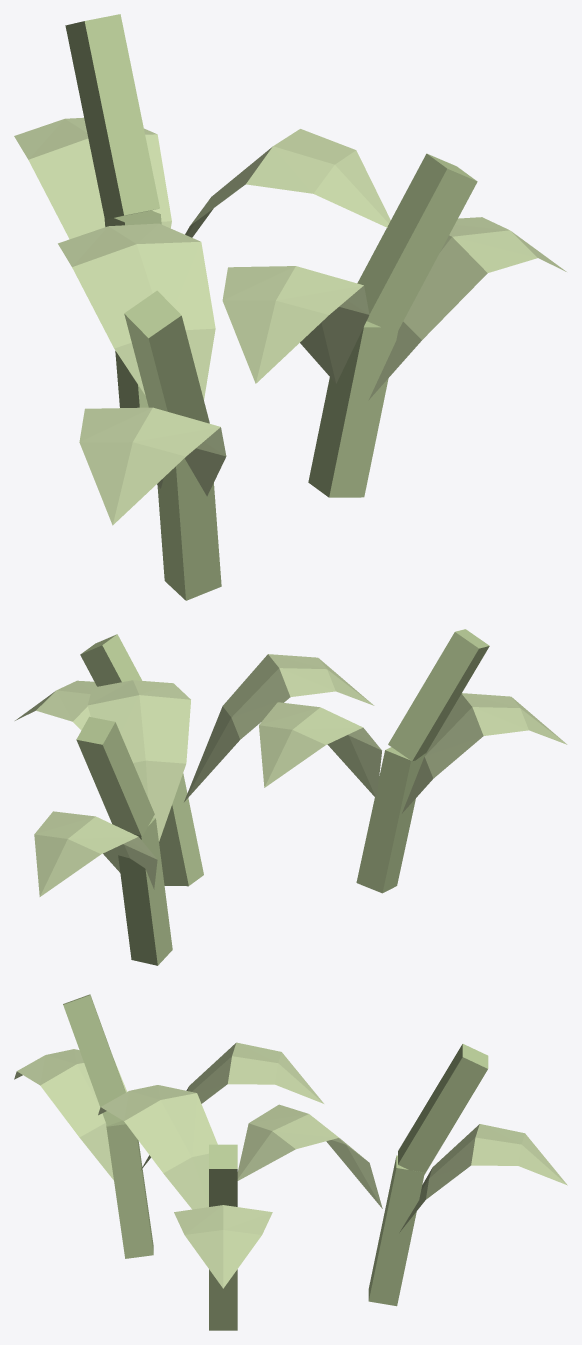
Rendered from crafted-crop-wheat-0.glb.
3 views of the same model, one above another, from view 1: azimuth 30°, elevation 25°; view 2: azimuth 150°, elevation 25°; view 3: azimuth 270°, elevation 25° (orthographic). The views are drawn at different scales.
Visible parts, largest first — view 1: blade-3, blade-1, stalk-2-1, blade-2, stalk-0-1, stalk-0-0, blade, blade-5, blade-4, stalk-1-0, stalk-1-1, stalk-2-0; view 2: blade-5, blade-1, blade-3, blade-4, stalk-1-0, blade-2, stalk-1-1, stalk-2-1, stalk-2-0, stalk-0-0, stalk-0-1, blade; view 3: blade-1, blade-5, blade-2, stalk-2-1, blade, blade-4, stalk-2-0, stalk-1-0, blade-3, stalk-1-1, stalk-0-1, stalk-0-0.
Boxes of the visible parts, <box> form: blade-3: <box>58,223,215,399</box>; blade-1: <box>222,266,369,383</box>; stalk-2-1: <box>65,14,159,219</box>; blade-2: <box>79,407,226,525</box>; stalk-0-1: <box>357,153,477,333</box>; stalk-0-0: <box>308,321,397,497</box>; blade: <box>368,217,566,400</box>; blade-5: <box>185,129,390,237</box>; blade-4: <box>14,117,171,239</box>; stalk-1-0: <box>157,458,221,600</box>; stalk-1-1: <box>124,290,209,423</box>; stalk-2-0: <box>104,210,161,407</box>; blade-5: <box>87,680,190,841</box>; blade-1: <box>184,654,374,801</box>; blade-3: <box>259,702,381,796</box>; blade-4: <box>34,811,157,896</box>; stalk-1-0: <box>356,747,425,893</box>; blade-2: <box>402,693,567,813</box>; stalk-1-1: <box>388,629,489,761</box>; stalk-2-1: <box>76,716,154,836</box>; stalk-2-0: <box>118,817,172,965</box>; stalk-0-0: <box>159,773,203,886</box>; stalk-0-1: <box>80,634,142,686</box>; blade: <box>15,680,96,730</box>; blade-1: <box>98,1085,217,1209</box>; blade-5: <box>237,1104,382,1208</box>; blade-2: <box>14,1049,126,1180</box>; stalk-2-1: <box>398,1044,488,1174</box>; blade: <box>174,1205,272,1288</box>; blade-4: <box>399,1124,567,1232</box>; stalk-2-0: <box>368,1155,424,1306</box>; stalk-1-0: <box>106,1120,153,1258</box>; blade-3: <box>141,1042,323,1169</box>; stalk-1-1: <box>63,994,125,1125</box>; stalk-0-1: <box>209,1144,237,1206</box>; stalk-0-0: <box>209,1269,237,1330</box>.
Size of the model in its own units: 0.2354 by 0.1364 by 0.2683.
